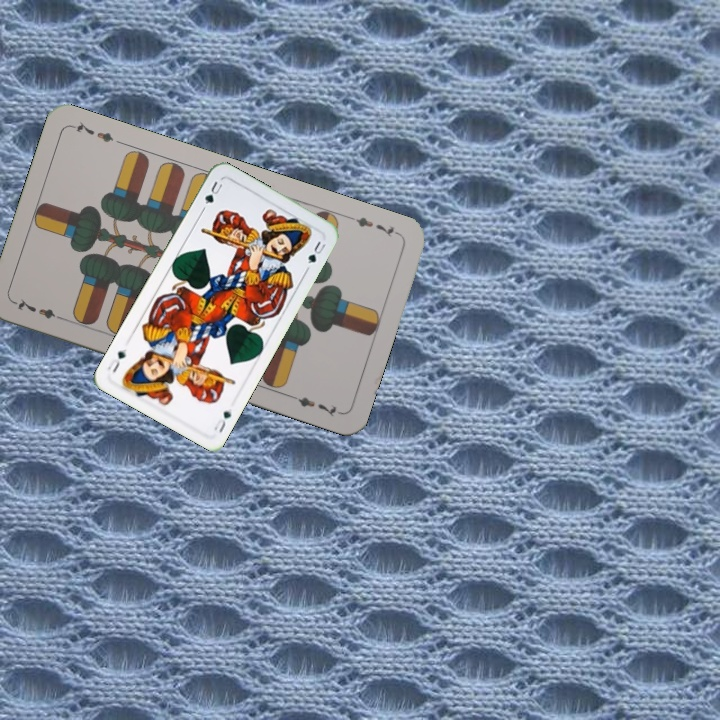E7: (11, 294, 68, 323), (345, 212, 402, 240)
GU: (210, 404, 234, 435), (201, 177, 225, 207)
